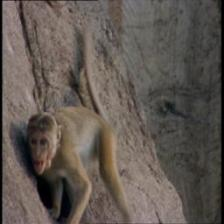monkey: (16, 103, 70, 181)
